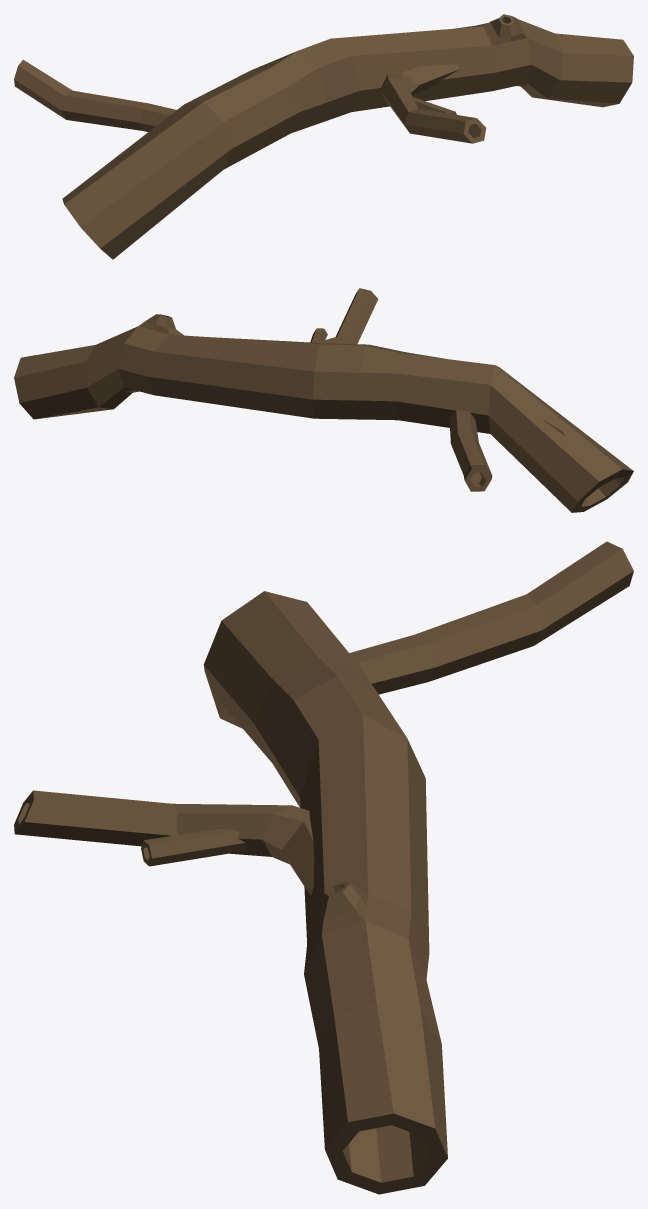
File: SM_dead_trunk_03.fbx
The picture shows the model from 3 angles, top to bottom: view 1: azimuth 30°, elevation 25°; view 2: azimuth 150°, elevation 25°; view 3: azimuth 270°, elevation 25°; orthographic projection. The views are drawn at different scales.
Parts seen in each view (by area): view 1: dead_trunk_03; view 2: dead_trunk_03; view 3: dead_trunk_03.
Boxes of the visible parts, x1,y1,x2,y2 form: dead_trunk_03: [14, 14, 633, 259]; dead_trunk_03: [14, 288, 633, 512]; dead_trunk_03: [14, 541, 633, 1194].
Bounding box in the file's own units: 373 × 85.75 × 194.
